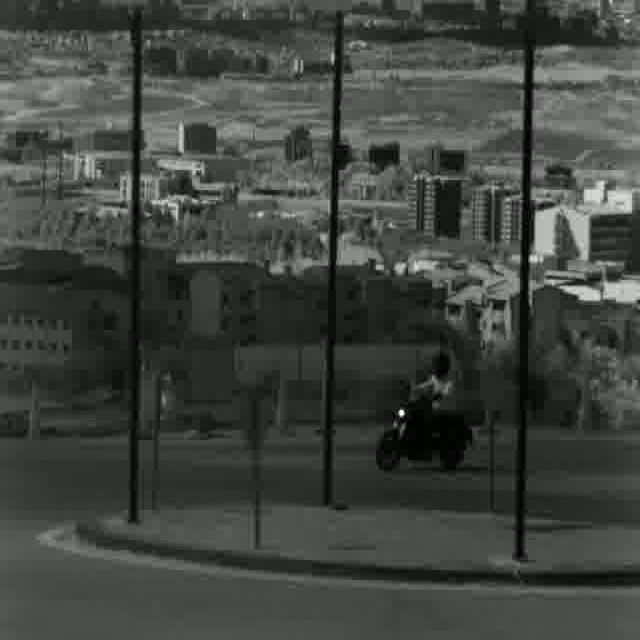Motorcycle: (376, 347, 478, 478)
